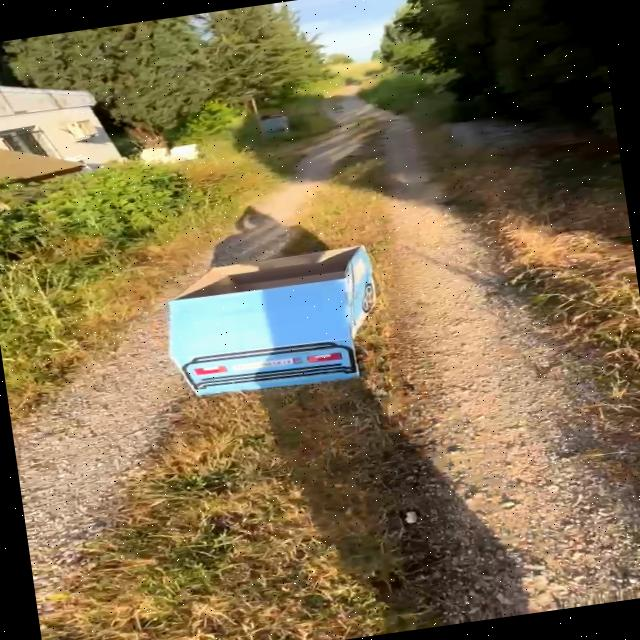blue_car: (138, 198, 443, 427)
